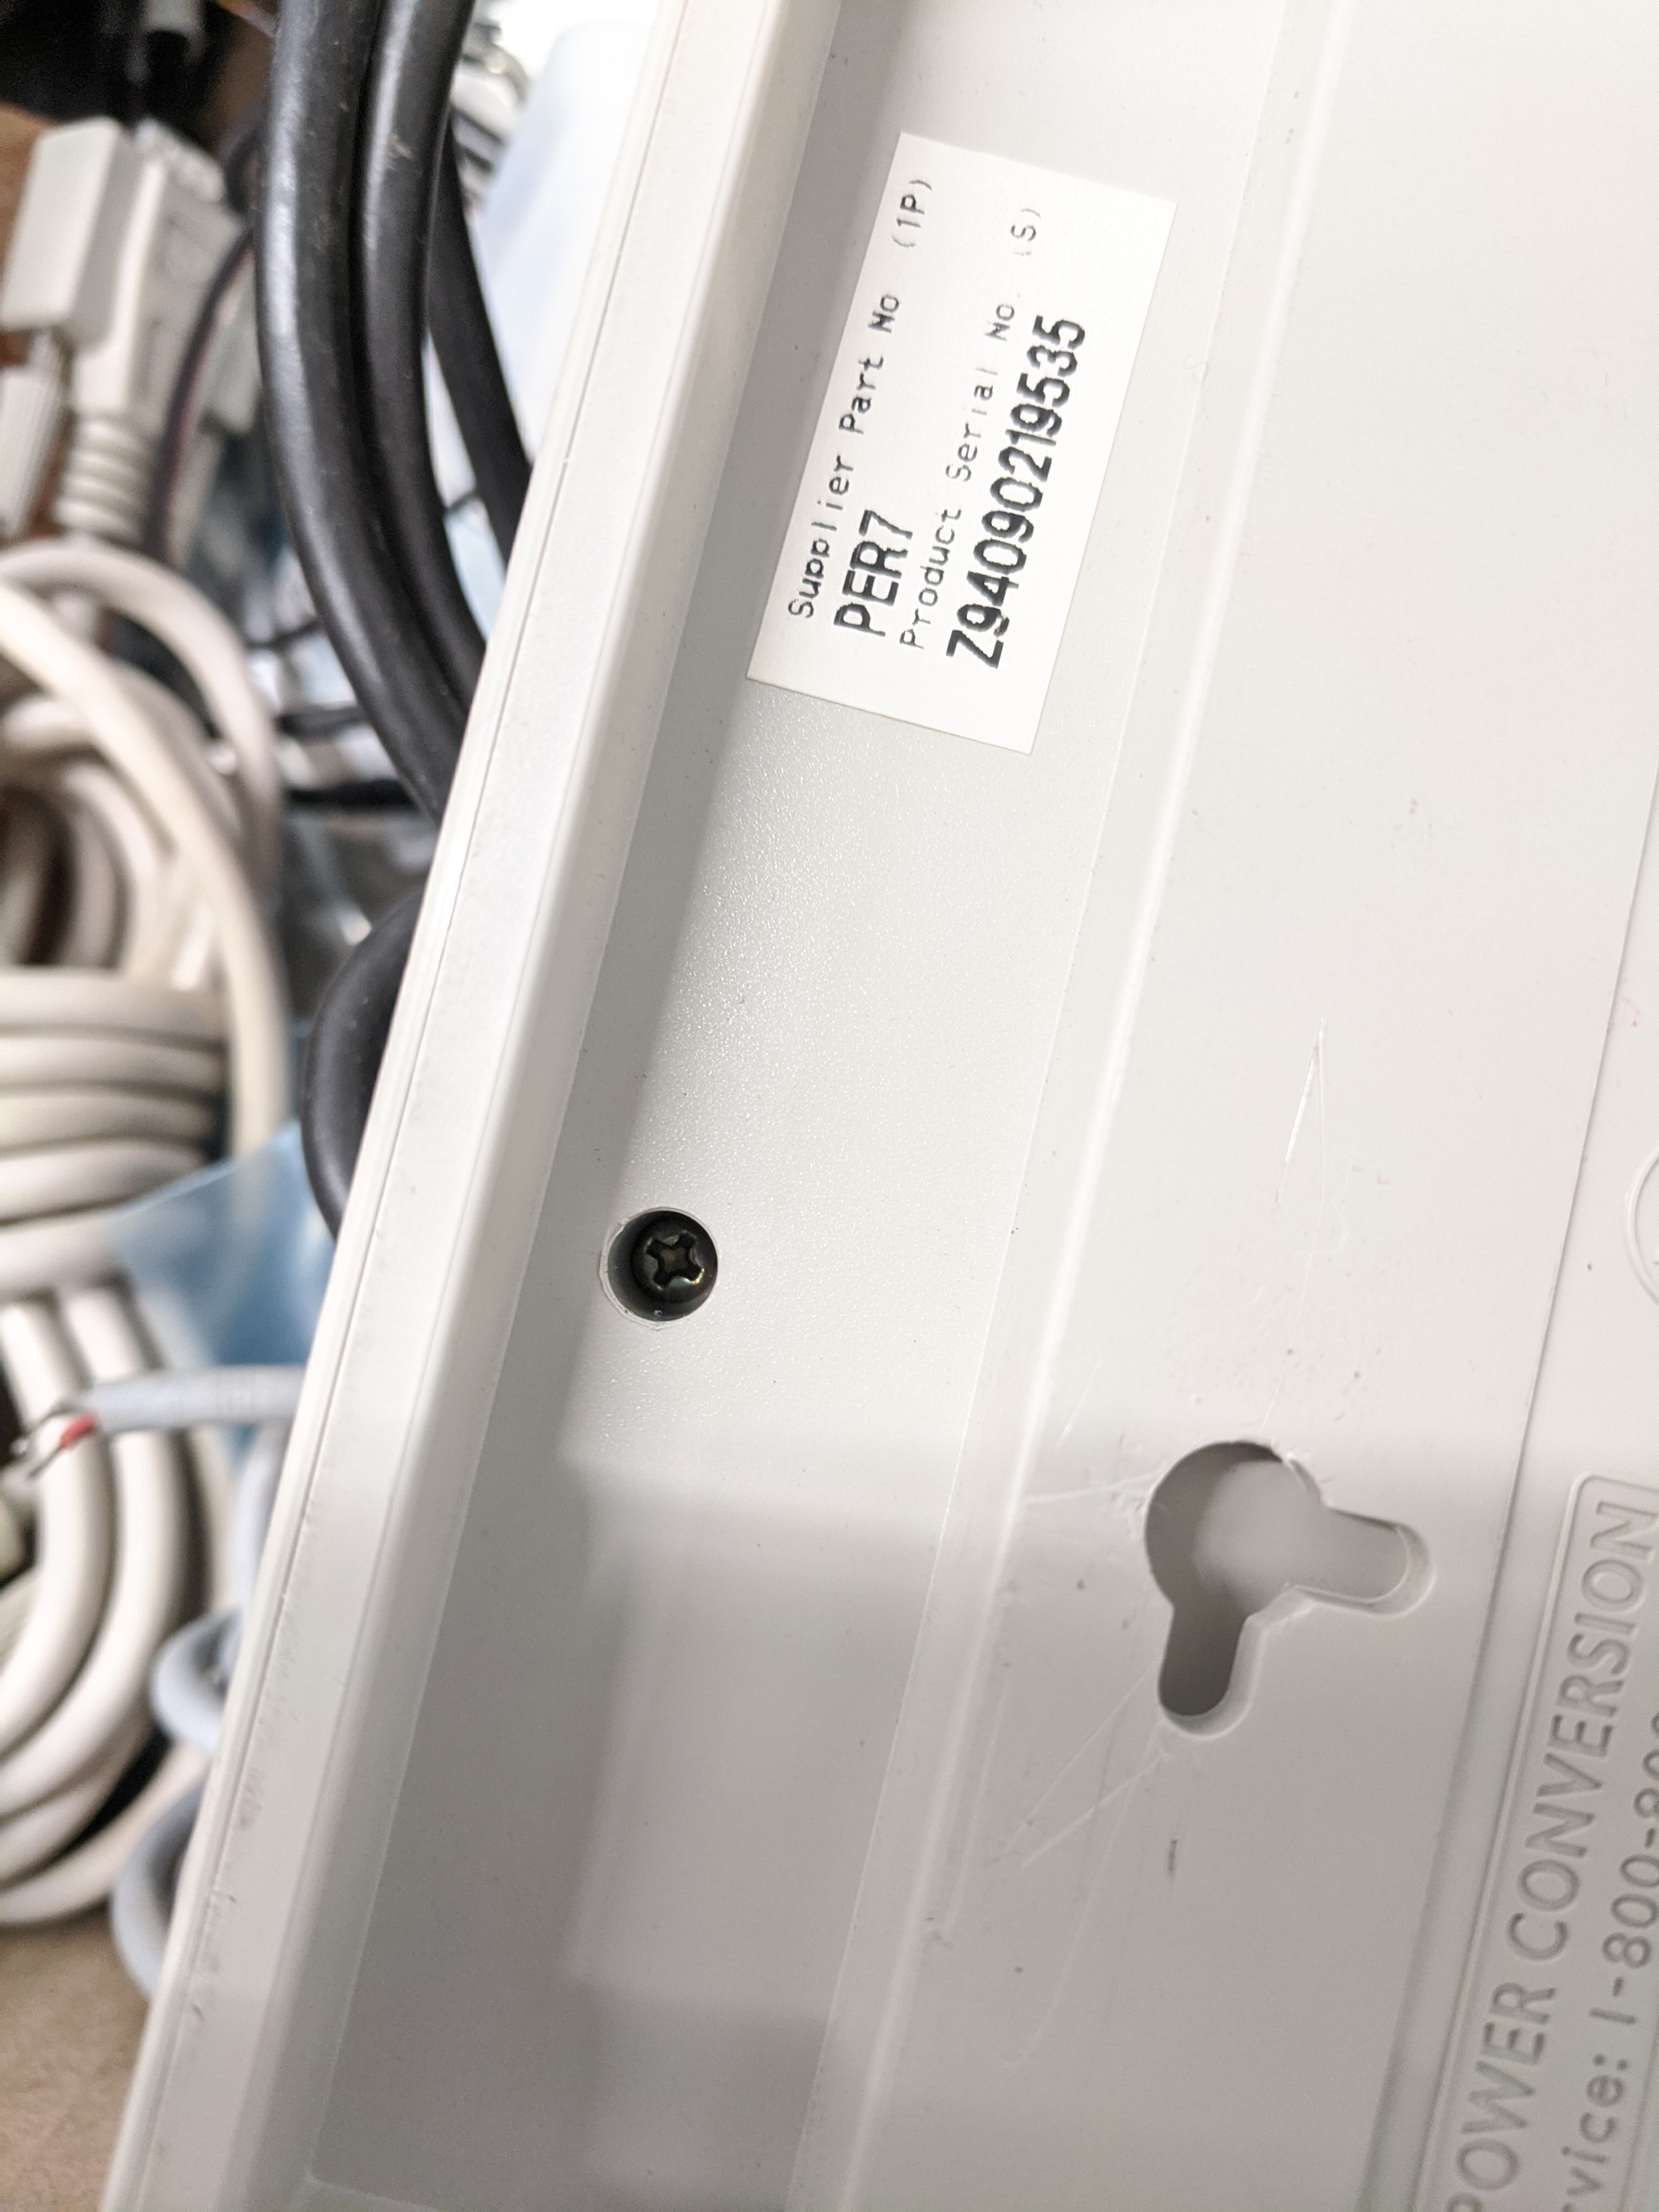cross_recessed_screw: (594, 1193, 742, 1329)
